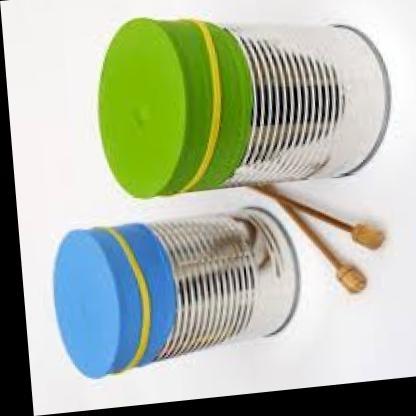trash: (99, 18, 389, 196), (54, 207, 300, 377), (54, 207, 298, 377)
